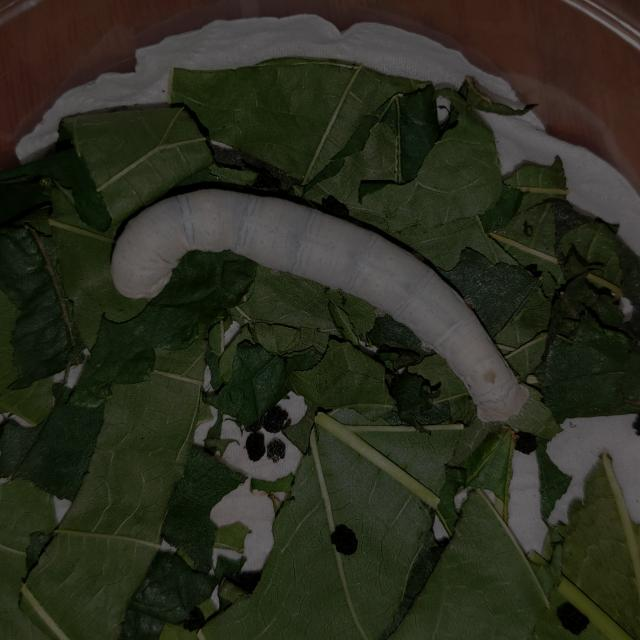Healthy: (81, 140, 563, 456)
